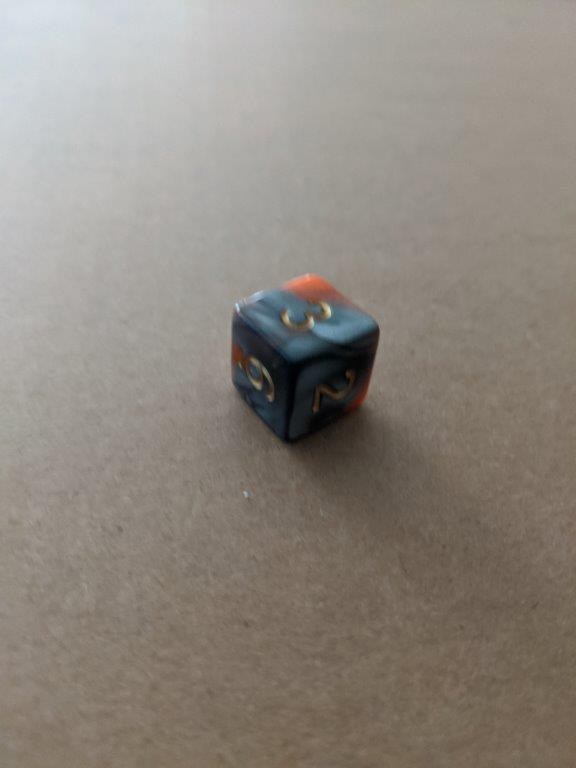d6-3: (233, 272, 381, 443)
